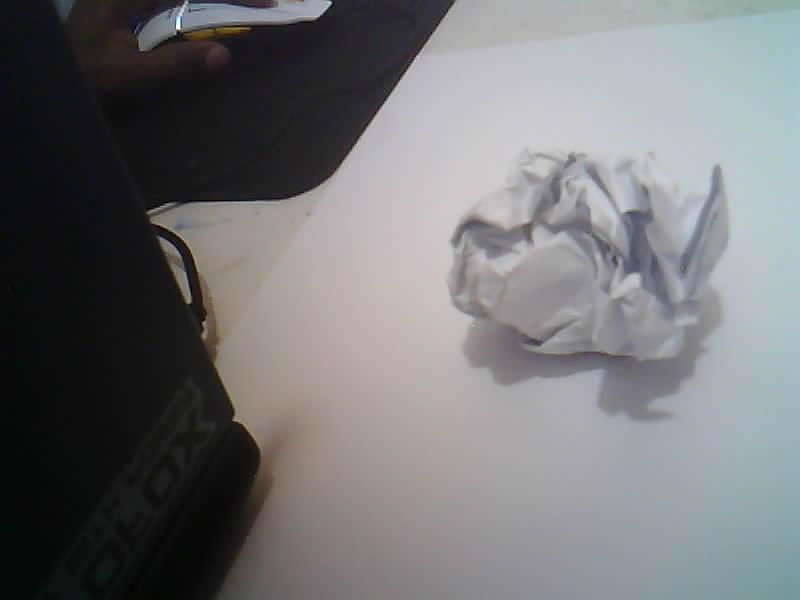biodegradable: (448, 149, 728, 359)
